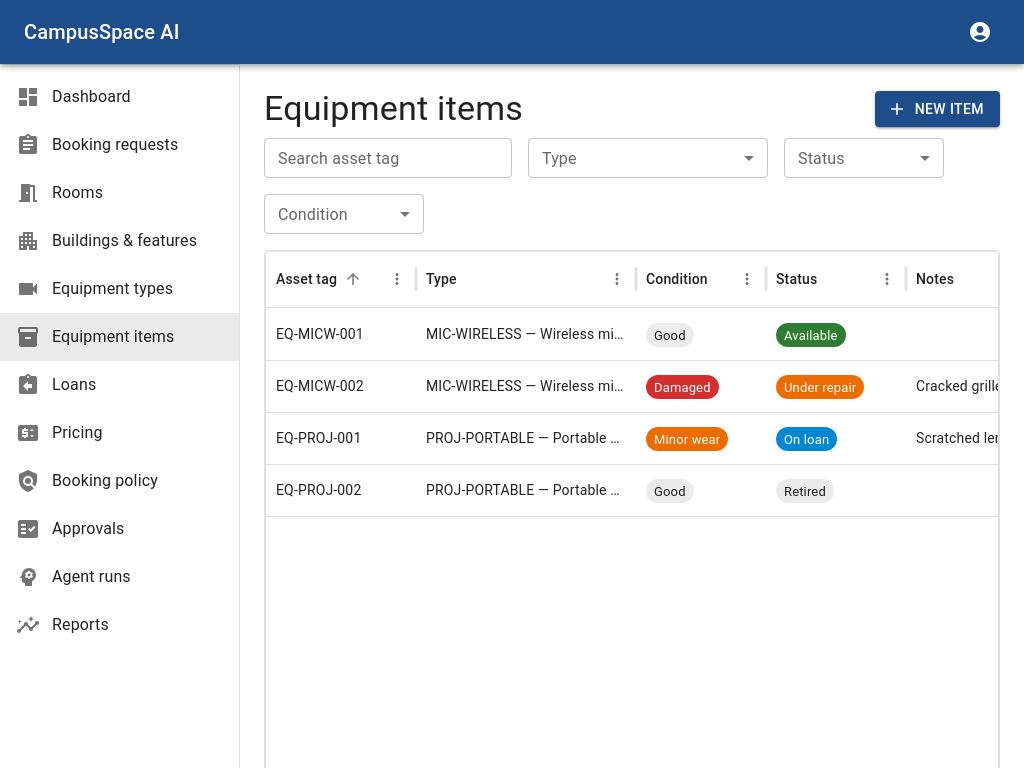
it: EquipmentItemFormDialog › does not let a damaged item be available
Click the button "New item": {"x": 937, "y": 109} [875,91,1000,127]
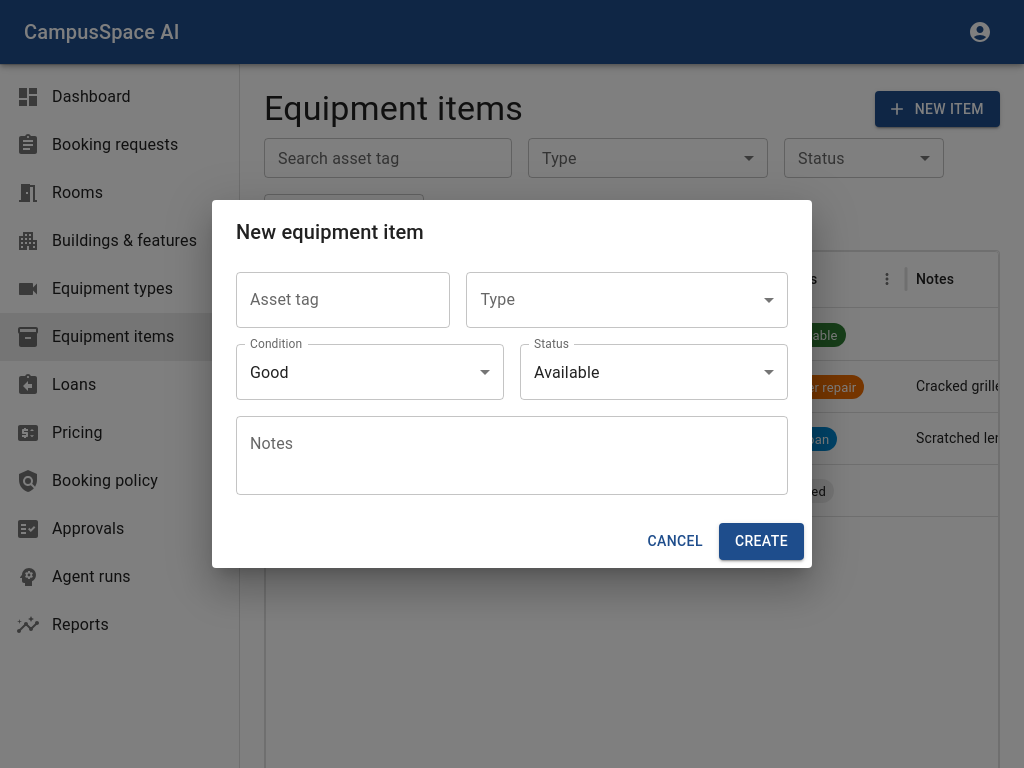
In the field labelled "Asset tag": {"x": 343, "y": 300} [236,272,450,328], type "eq-micw-009"
Click the dropdown named "Type": {"x": 627, "y": 300} [466,272,788,328]
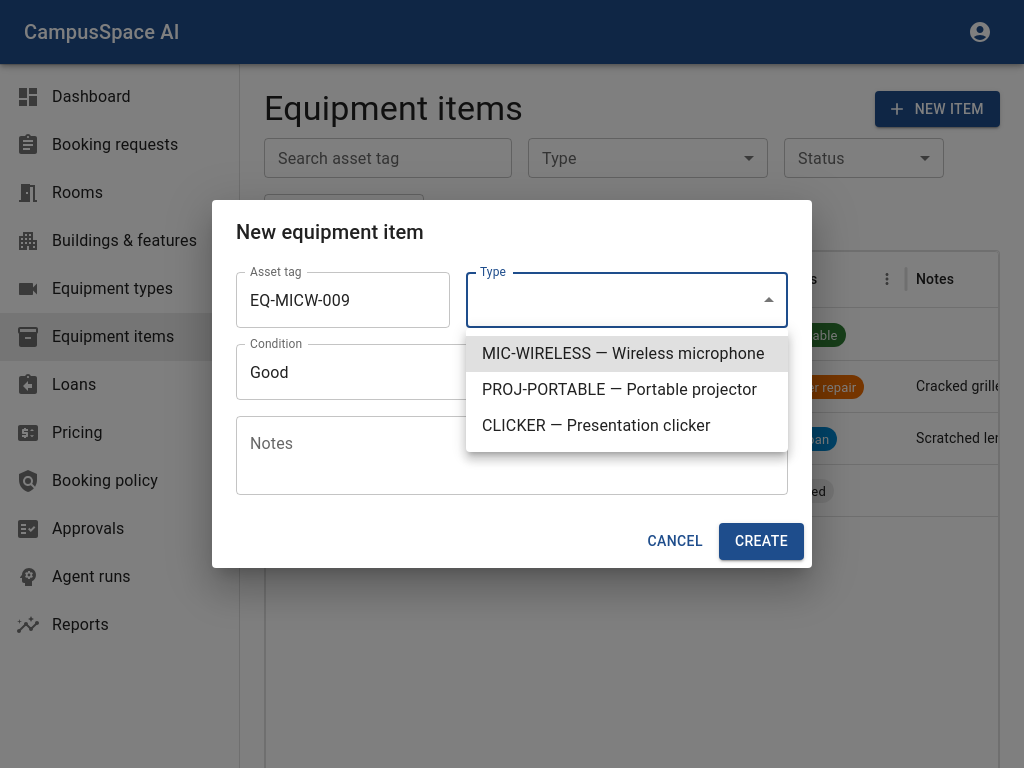
Click the option "MIC-WIRELESS — Wireless microphone": {"x": 627, "y": 354} [466,336,788,372]
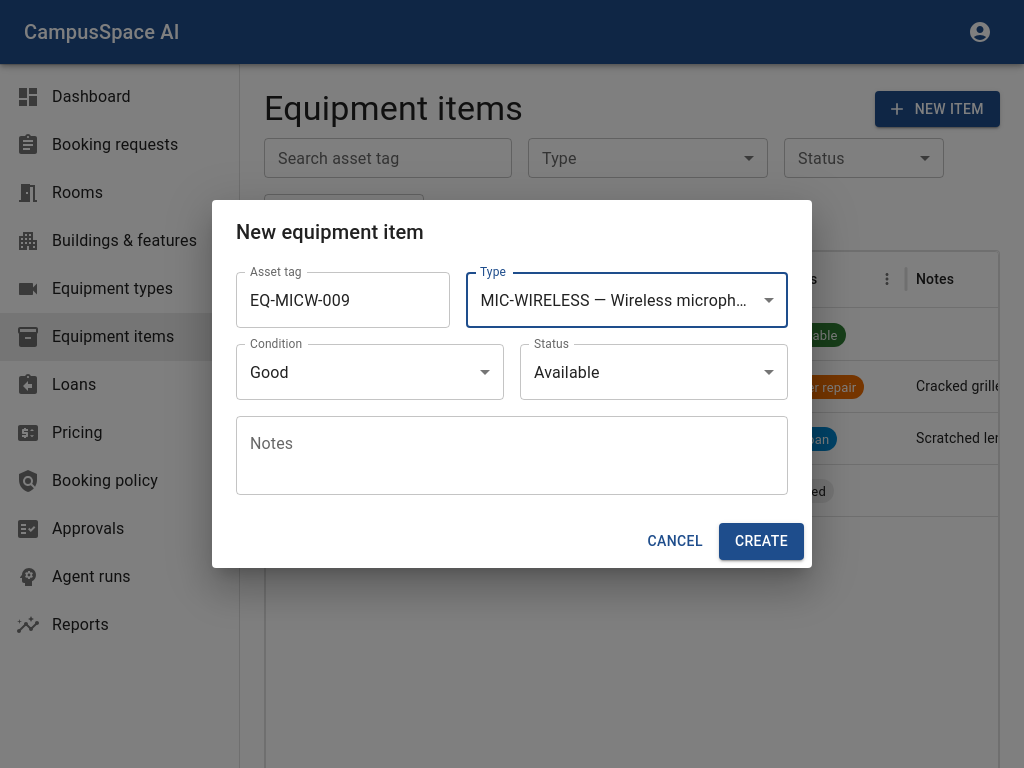
Click the dropdown named "Condition": {"x": 269, "y": 372} [250,363,289,382]
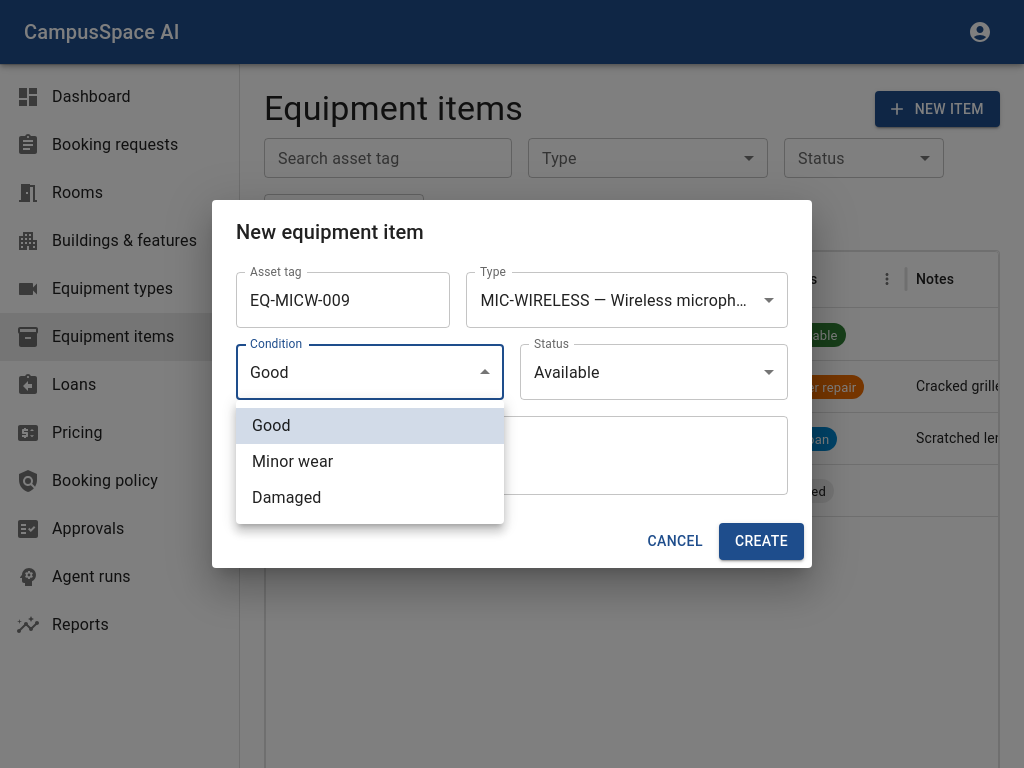
Click the option "Damaged": {"x": 287, "y": 498} [252,488,322,507]
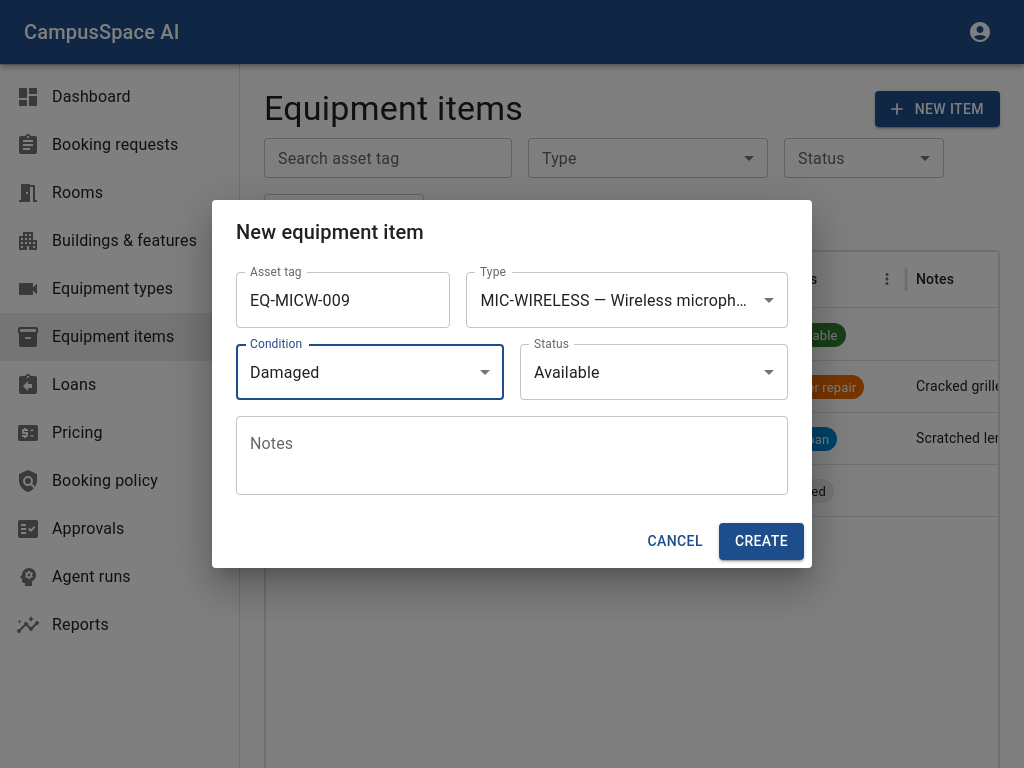
Click the button "Create": {"x": 761, "y": 542} [719,523,804,560]
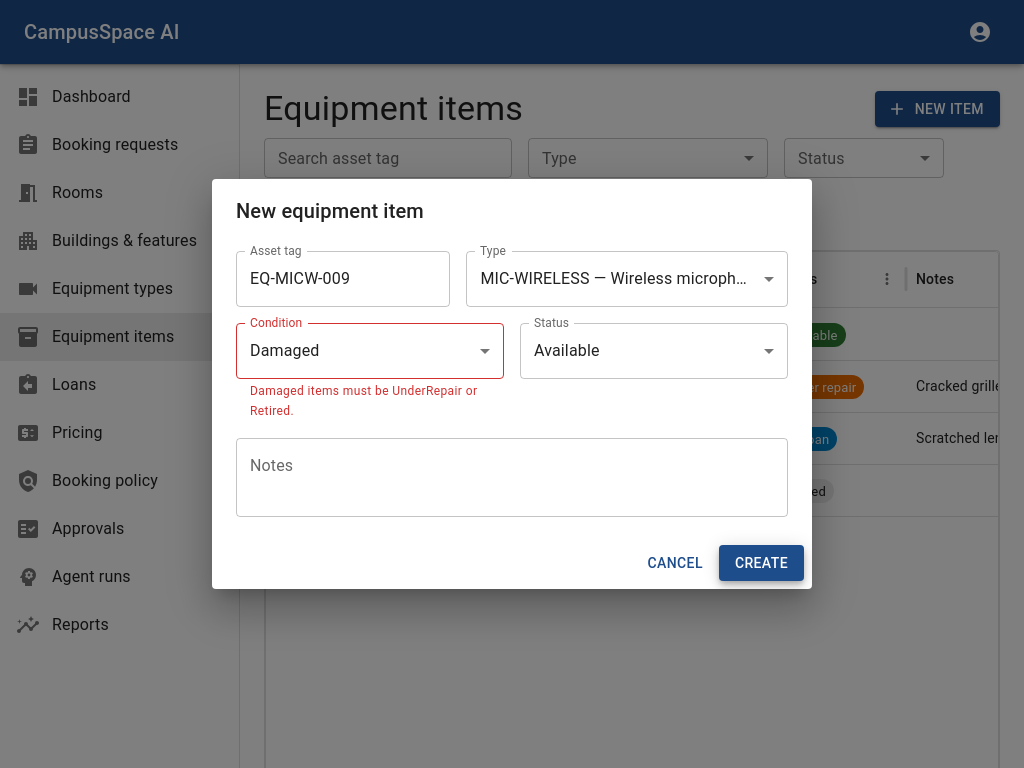
Expected: the text "Damaged items must be UnderRepair or Retired." is shown, [250,382,490,422]
